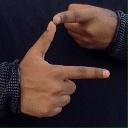hand: (18, 20, 110, 118), (52, 3, 117, 50)
